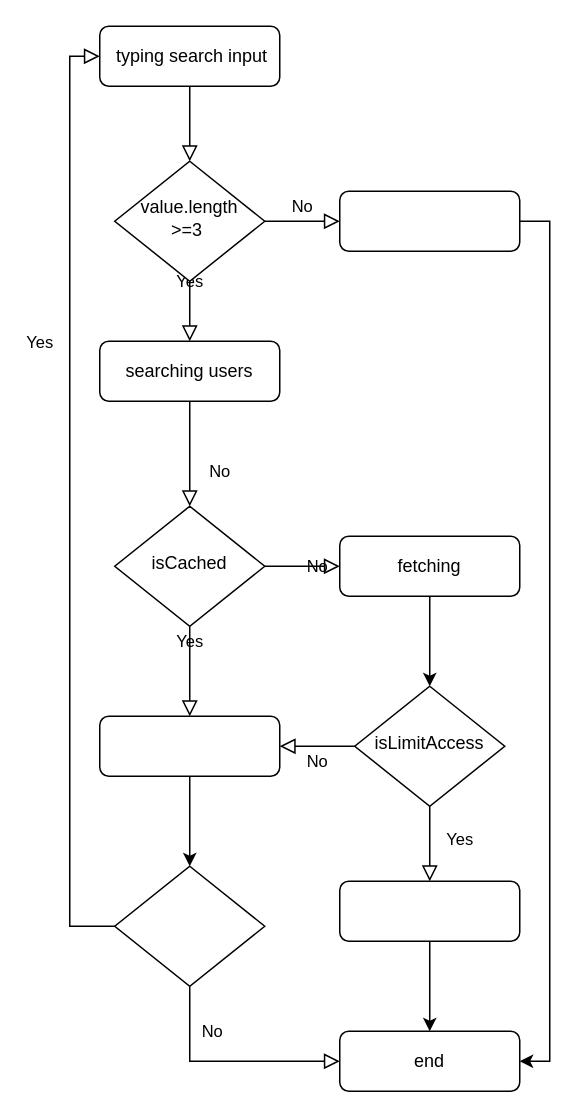
Image size: 588x1118. Some labels were removed from this diagram. The centre of each missing label's shape, as x and y in pixels:
clear uses: the point at 429,220
continuteSearch: the point at 189,925
setUsersData: the point at 189,745
showAlert: the point at 429,910
